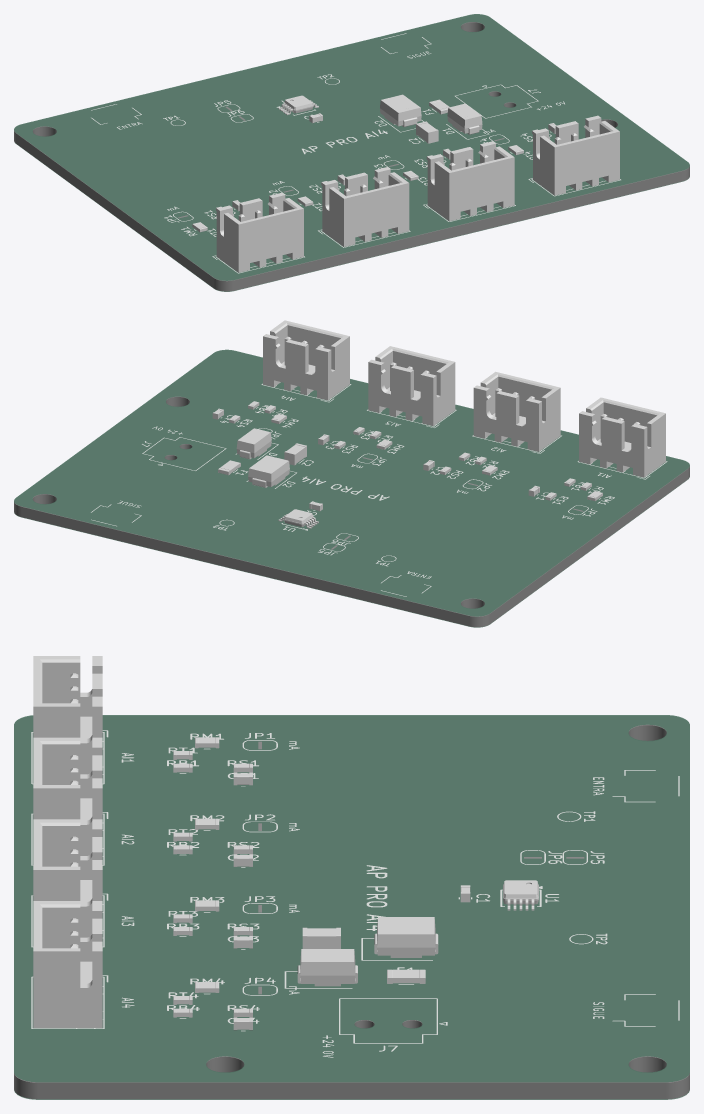
The picture shows the model from 3 angles, top to bottom: view 1: azimuth 30°, elevation 25°; view 2: azimuth 150°, elevation 25°; view 3: azimuth 270°, elevation 25°; orthographic projection. The views are drawn at different scales.
Visible parts, largest first — view 1: =>[0:1:1:15], =>[0:1:1:13], J3, J4, J8, J9, =>[0:1:1:11], D2, D1, =>[0:1:1:14], U1; view 2: =>[0:1:1:15], =>[0:1:1:13], J4, J8, J3, J9, =>[0:1:1:11], D2, D1, =>[0:1:1:14], U1; view 3: =>[0:1:1:15], =>[0:1:1:13], J9, =>[0:1:1:11], J4, J3, J8, D2, D1, U1, C2, =>[0:1:1:14].
Part boxes in pixels (x1,y1,x2,y2): =>[0:1:1:15]: (14,15,689,291); =>[0:1:1:13]: (14,14,689,280); J3: (216,192,303,272); J4: (322,167,409,246); J8: (427,141,514,221); J9: (533,115,619,195); =>[0:1:1:11]: (91,33,620,273); D2: (380,94,421,126); D1: (447,103,482,134); =>[0:1:1:14]: (15,143,689,291); U1: (278,95,318,114); =>[0:1:1:15]: (14,350,689,627); =>[0:1:1:13]: (14,349,689,616); J4: (473,371,560,451); J8: (368,346,455,425); J3: (579,397,665,477); J9: (263,320,349,400); =>[0:1:1:11]: (91,383,667,596); D2: (248,455,289,487); D1: (236,428,271,459); =>[0:1:1:14]: (14,478,688,627); U1: (278,509,318,528); =>[0:1:1:15]: (14,716,689,1099); =>[0:1:1:13]: (14,715,689,1082); J9: (33,901,102,1027); =>[0:1:1:11]: (31,730,679,1057); J4: (33,737,102,855); J3: (33,656,102,774); J8: (33,819,102,937); D2: (374,917,438,957); D1: (297,949,357,986); U1: (503,880,538,910); C2: (302,927,340,948); =>[0:1:1:14]: (14,1090,689,1099).
Bounding box in the file's own units: 0.072 × 0.0104 × 0.056.
